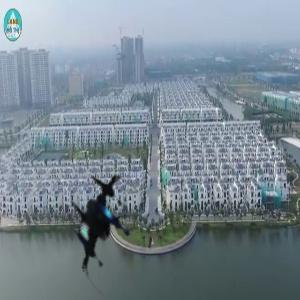drone: (51, 176, 158, 283)
